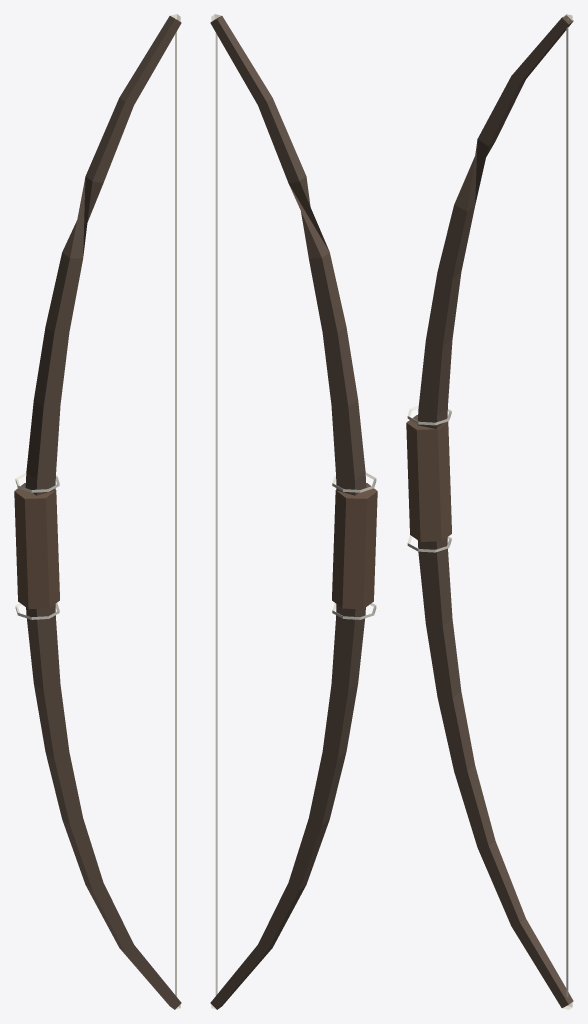
File: bow.glb
The picture shows the model from 3 angles, left to right: view 1: azimuth 30°, elevation 25°; view 2: azimuth 150°, elevation 25°; view 3: azimuth 330°, elevation 25°; orthographic projection.
Visible parts, largest first — view 1: wood, metal; view 2: wood, metal; view 3: wood, metal.
Part boxes in pixels (x1=…): wood: x1=14, y1=16, x2=181, y2=1009; metal: x1=15, y1=19, x2=176, y2=996; wood: x1=210, y1=16, x2=377, y2=1009; metal: x1=215, y1=32, x2=376, y2=995; wood: x1=406, y1=15, x2=573, y2=1007; metal: x1=407, y1=19, x2=568, y2=998.
Size of the model in its own units: 0.2126 by 1.25 by 0.052.
